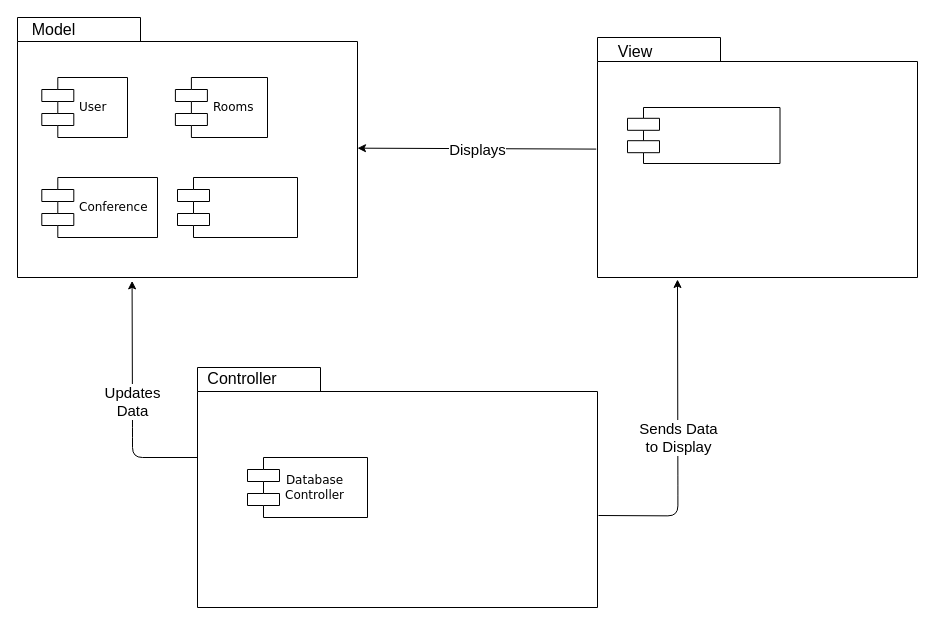
Image size: 935x625. Some labels were removed from this diagram. Here are the shapes that lost their labels. From the top down, the centre of each, then its label:
the point at 703,135: App Frames
the point at 237,207: Direct Messages
